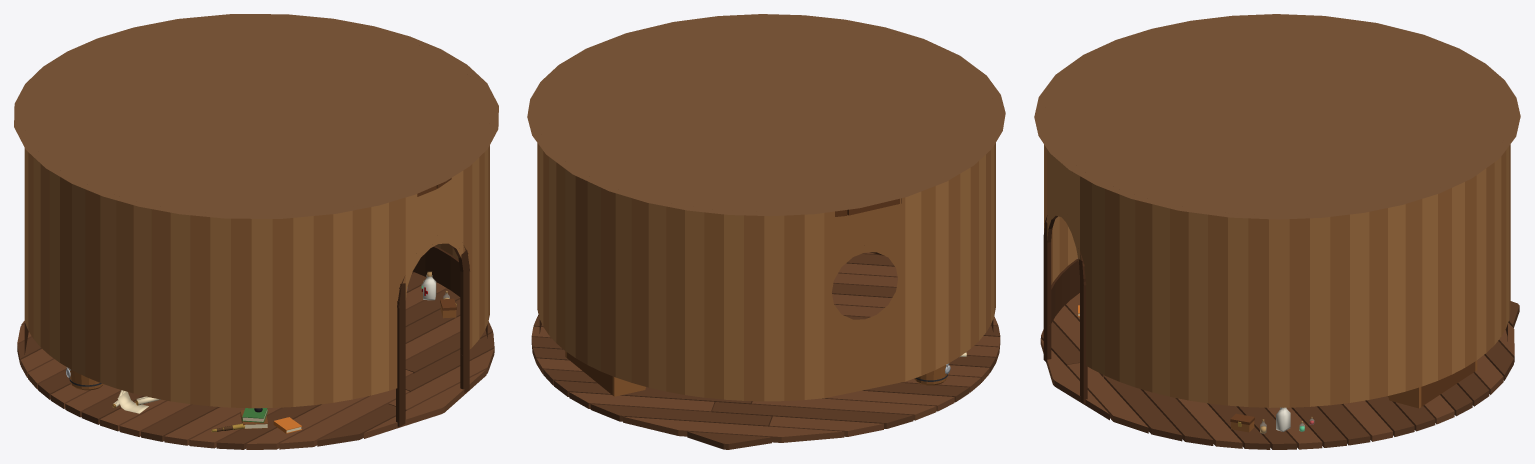
Rendered from ElfoInterior.glb.
The picture shows the model from 3 angles, left to right: view 1: azimuth 30°, elevation 25°; view 2: azimuth 150°, elevation 25°; view 3: azimuth 270°, elevation 25°; orthographic projection.
Visible parts, largest first — view 1: ElfoMurosInterior, ElfoCielo, ElfoPisoInterior, ElfoLibros, ElfoPergaminos, ElfoFrascos; view 2: ElfoMurosInterior, ElfoCielo, ElfoPisoInterior, ElfoBiblioteca, ElfoPergaminos; view 3: ElfoMurosInterior, ElfoCielo, ElfoPisoInterior, ElfoBiblioteca, ElfoFrascos.
Boxes of the visible parts, x1,y1,x2,y2 form: ElfoMurosInterior: (24, 145, 489, 426); ElfoCielo: (14, 14, 498, 218); ElfoPisoInterior: (17, 271, 494, 449); ElfoLibros: (211, 408, 301, 433); ElfoPergaminos: (66, 367, 160, 413); ElfoFrascos: (407, 271, 456, 318); ElfoMurosInterior: (537, 143, 995, 401); ElfoCielo: (527, 14, 1005, 216); ElfoPisoInterior: (531, 252, 1000, 449); ElfoBiblioteca: (565, 351, 645, 396); ElfoPergaminos: (914, 352, 966, 385); ElfoMurosInterior: (1043, 144, 1510, 407); ElfoCielo: (1034, 14, 1520, 219); ElfoPisoInterior: (1040, 293, 1519, 449); ElfoBiblioteca: (1388, 360, 1477, 408); ElfoFrascos: (1230, 407, 1314, 433).
Bounding box in the file's own units: 5.84 × 3.08 × 5.84.
